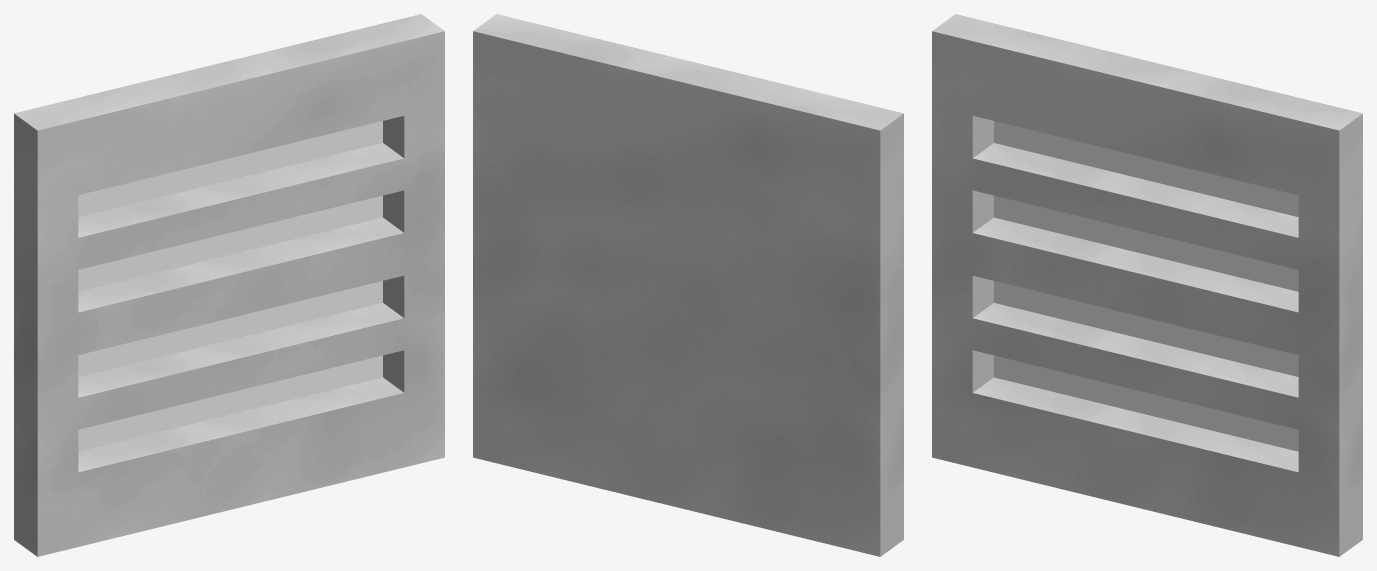
File: Ventilation.fbx
The picture shows the model from 3 angles, left to right: view 1: azimuth 30°, elevation 25°; view 2: azimuth 150°, elevation 25°; view 3: azimuth 330°, elevation 25°; orthographic projection.
Visible parts, largest first — view 1: node_id7 (×2); view 2: node_id7; view 3: node_id7 (×2).
Boxes of the visible parts, box(x1,y1,x2,y2) form: node_id7 (×2): box(14, 14, 444, 556); node_id7: box(473, 14, 903, 556); node_id7 (×2): box(932, 14, 1362, 556).
Bounding box in the file's own units: 0.512 × 0.512 × 0.0512.
Materials: 2 (1 with a texture image).
